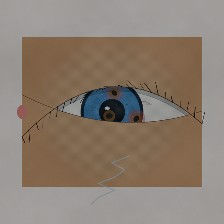foreign_body_visible: (99, 81, 130, 105)
